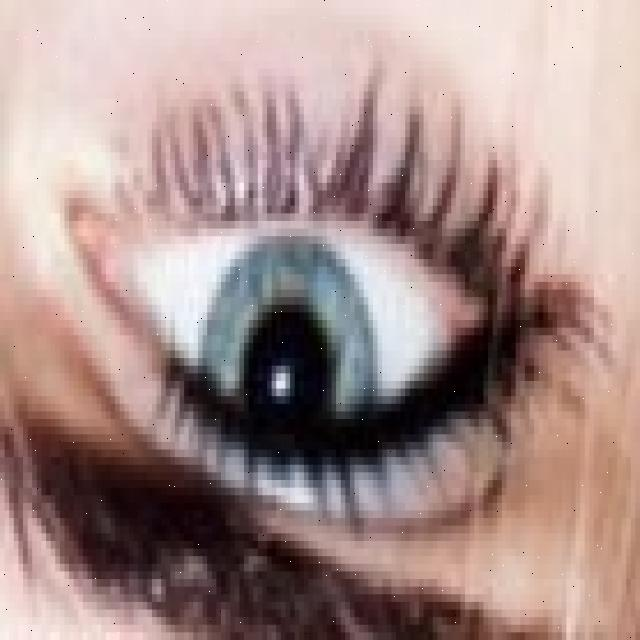Normal: (202, 228, 379, 501)
